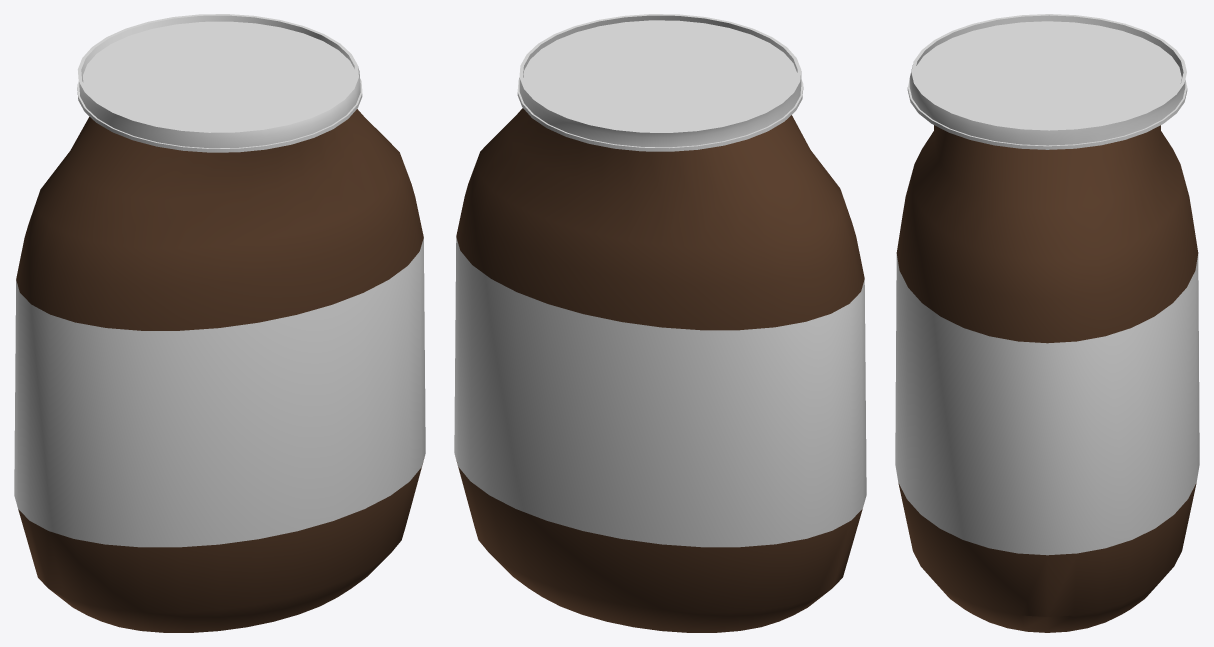
File: nutella.fbx
3 views of the same model, side by side, from view 1: azimuth 30°, elevation 25°; view 2: azimuth 150°, elevation 25°; view 3: azimuth 270°, elevation 25° (orthographic). The views are drawn at different scales.
Parts seen in each view (by area): view 1: Cylinder.001; view 2: Cylinder.001; view 3: Cylinder.001.
Boxes of the visible parts, x1,y1,x2,y2 form: Cylinder.001: (14, 14, 425, 632); Cylinder.001: (454, 14, 866, 632); Cylinder.001: (895, 14, 1199, 632).
Bounding box in the file's own units: 402 × 512 × 284.
